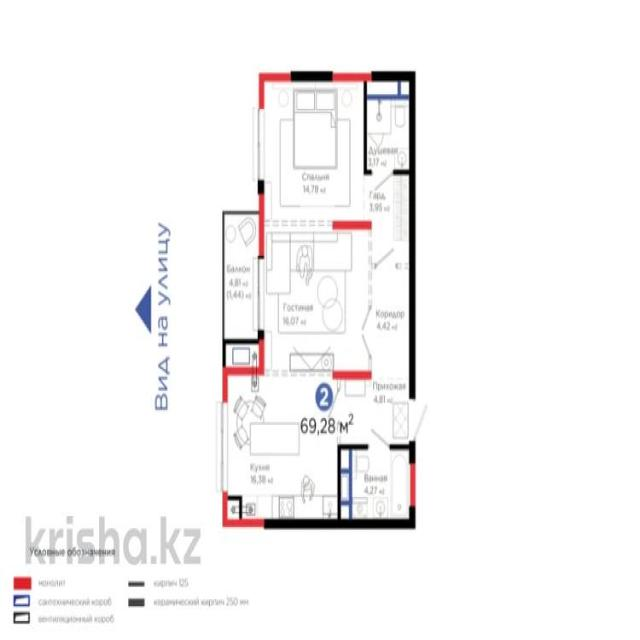balcony: (223, 215, 261, 342)
bathroom: (339, 446, 415, 523), (366, 79, 412, 174)
hallway: (367, 224, 413, 372), (339, 374, 414, 446)
kitchen: (224, 376, 339, 522)
living_room: (259, 80, 364, 226), (262, 228, 366, 366)
other: (366, 172, 414, 227)
